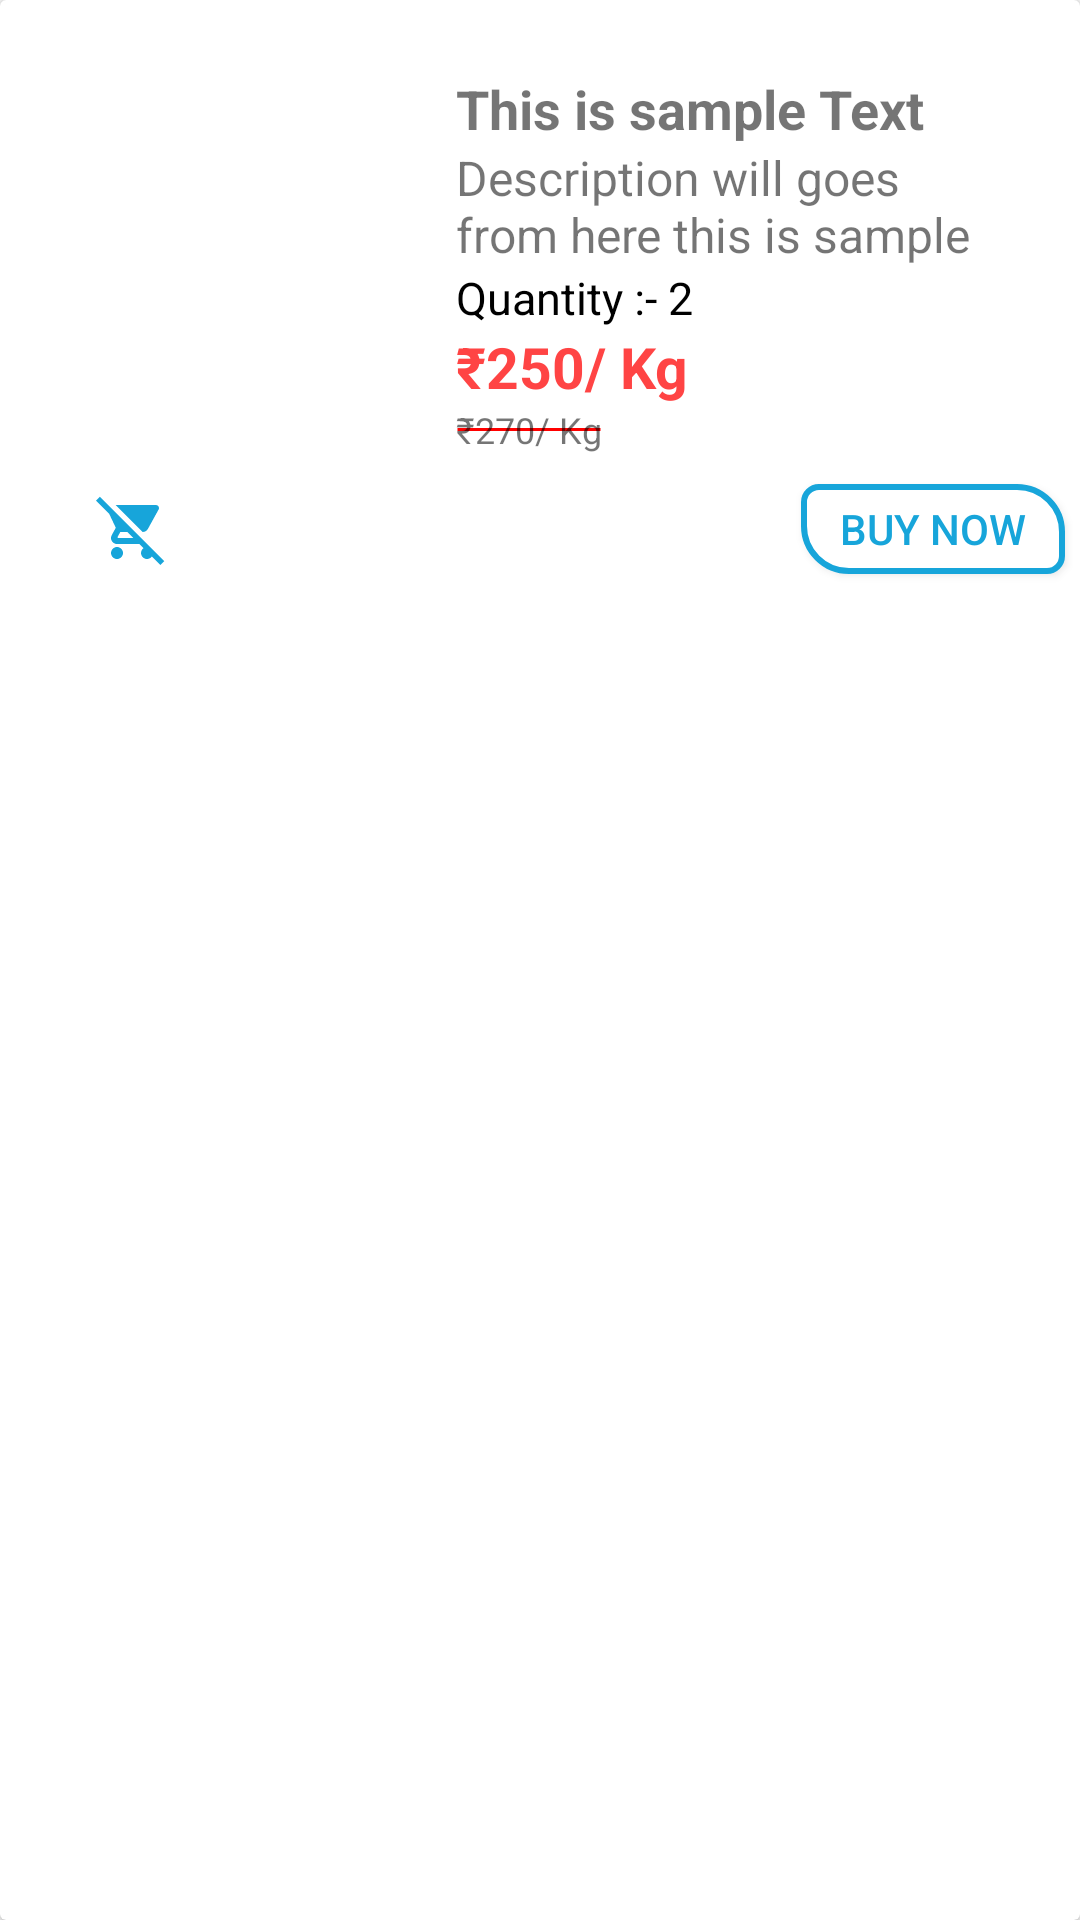

Where icons sit on this 1080 x 1920 app screen, as (left=x1, top=y1, right=x2, bottom=y2):
remove shopping cart: (left=96, top=497, right=164, bottom=565)
